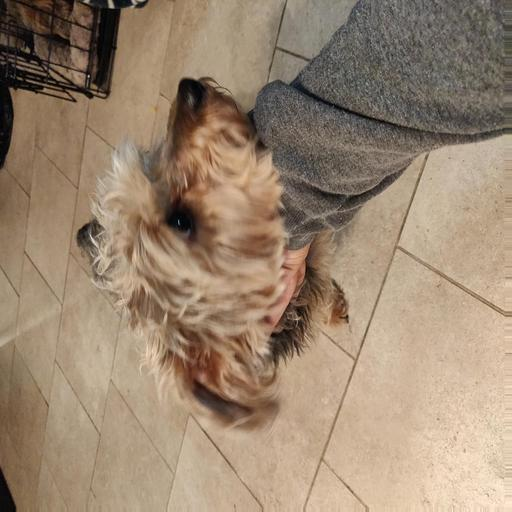dog: (88, 82, 322, 316)
